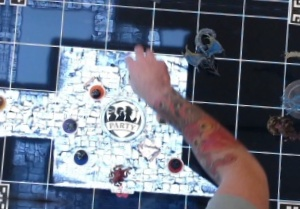blue: (69, 147, 95, 170)
orange: (86, 82, 109, 101)
red: (163, 153, 185, 175)
violet: (57, 115, 78, 138)
yellow: (0, 91, 8, 112)
